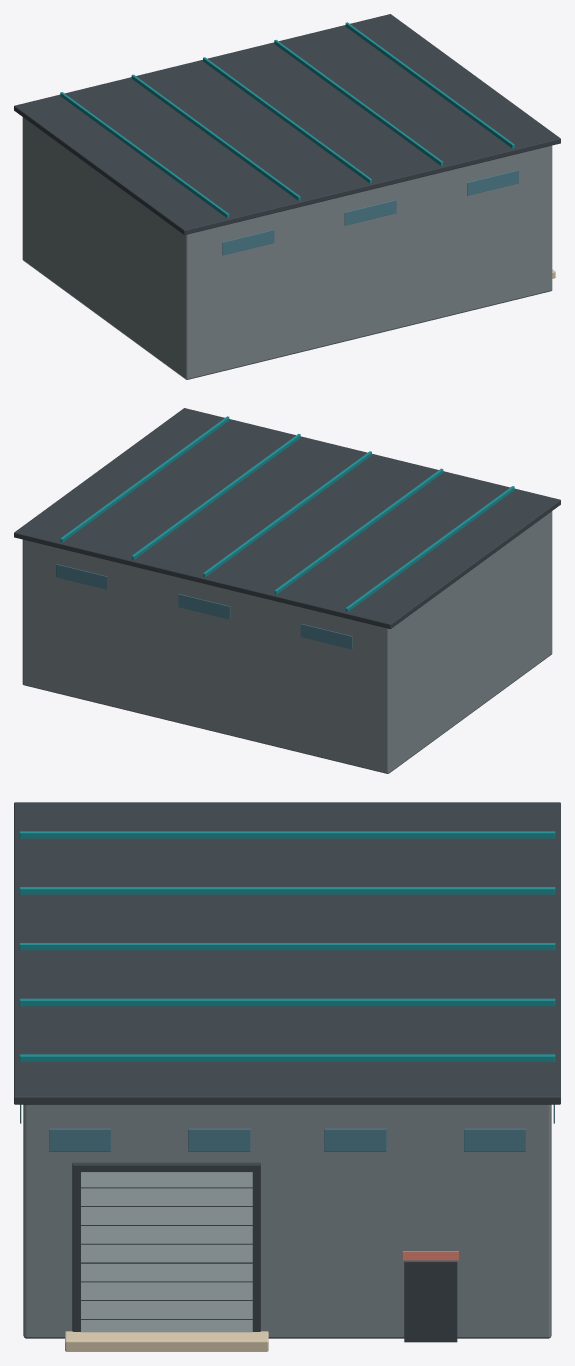
The model's file is Warehouse.fbx.
3 views of the same model, one above another, from view 1: azimuth 30°, elevation 25°; view 2: azimuth 150°, elevation 25°; view 3: azimuth 270°, elevation 25° (orthographic). The views are drawn at different scales.
Parts seen in each view (by area): view 1: Warehouse; view 2: Warehouse; view 3: Warehouse.
Part boxes in pixels (x1=…): Warehouse: x1=14, y1=14, x2=560, y2=379; Warehouse: x1=14, y1=408, x2=560, y2=773; Warehouse: x1=14, y1=802, x2=560, y2=1351.
Size of the model in its own units: 1902 by 739 by 1450.
